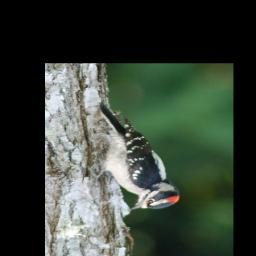Woodpecker: (92, 100, 183, 213)
